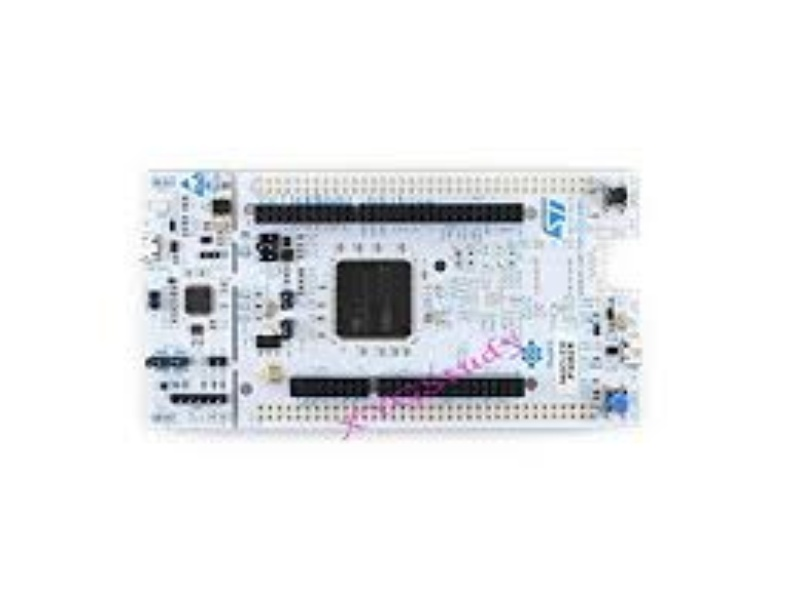stmnucleo: (141, 168, 644, 432)
